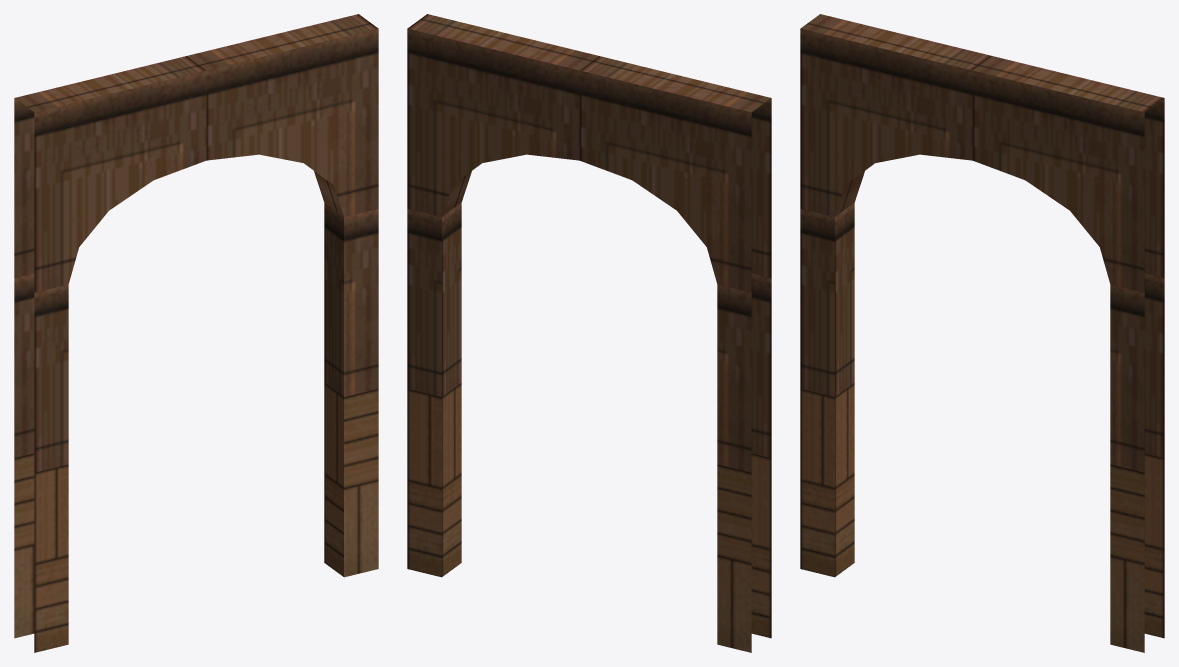
The model's file is SM_wall_arch_cellar.fbx.
3 renders of one model, left to right at view 1: azimuth 30°, elevation 25°; view 2: azimuth 150°, elevation 25°; view 3: azimuth 330°, elevation 25°, orthographic.
Visible parts, largest first — view 1: wall_arch_cellar; view 2: wall_arch_cellar; view 3: wall_arch_cellar.
Part boxes in pixels (left/top/right/bottom): wall_arch_cellar: left=14, top=14, right=378, bottom=652; wall_arch_cellar: left=407, top=14, right=771, bottom=652; wall_arch_cellar: left=800, top=14, right=1164, bottom=652.
Size of the model in its own units: 2 by 3 by 0.2.
